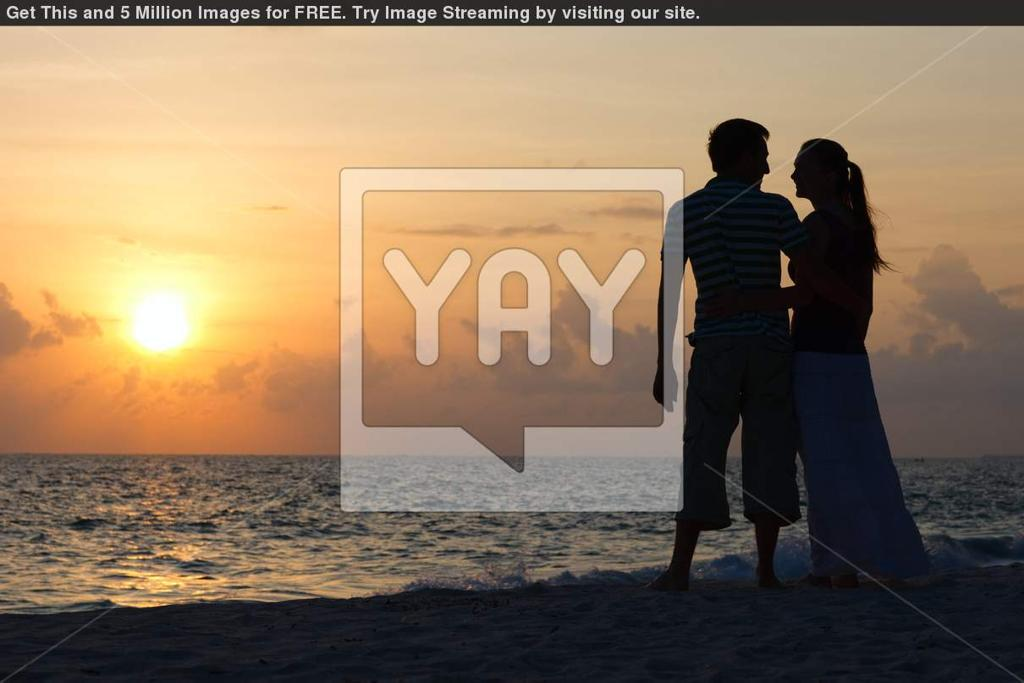face: (750, 133, 770, 188), (790, 152, 814, 197)
